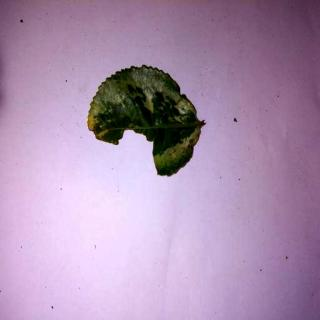Anthracnose: (90, 64, 208, 177)
